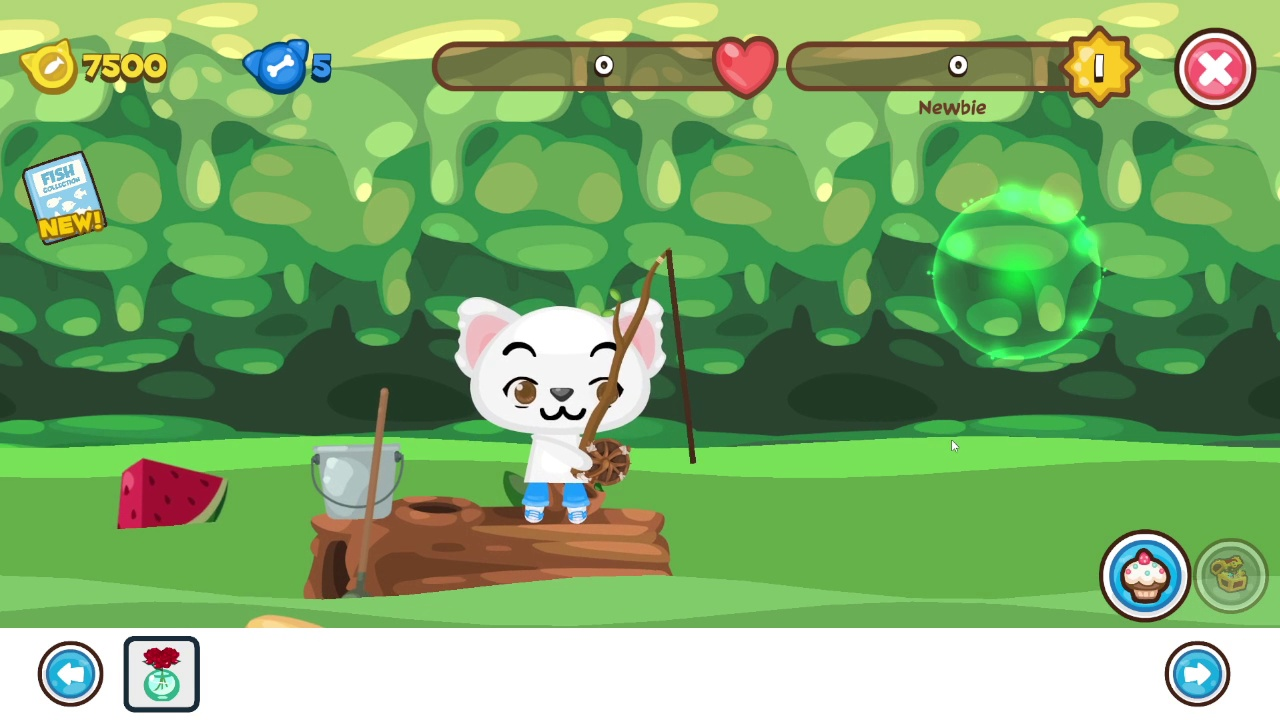point: (932, 189, 1102, 358)
